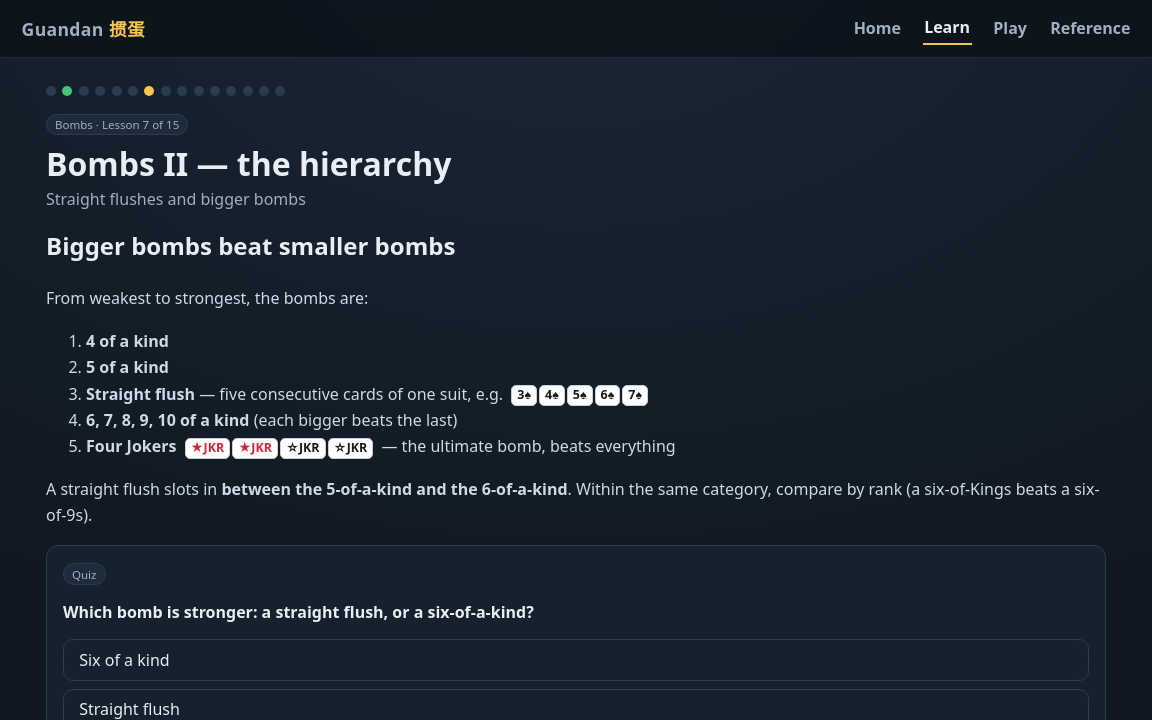
Test: UI smoke › scores a quiz drill
Click the button "Six of a kind" at (124, 660), box [63,639,1089,681]
(page scrolled)
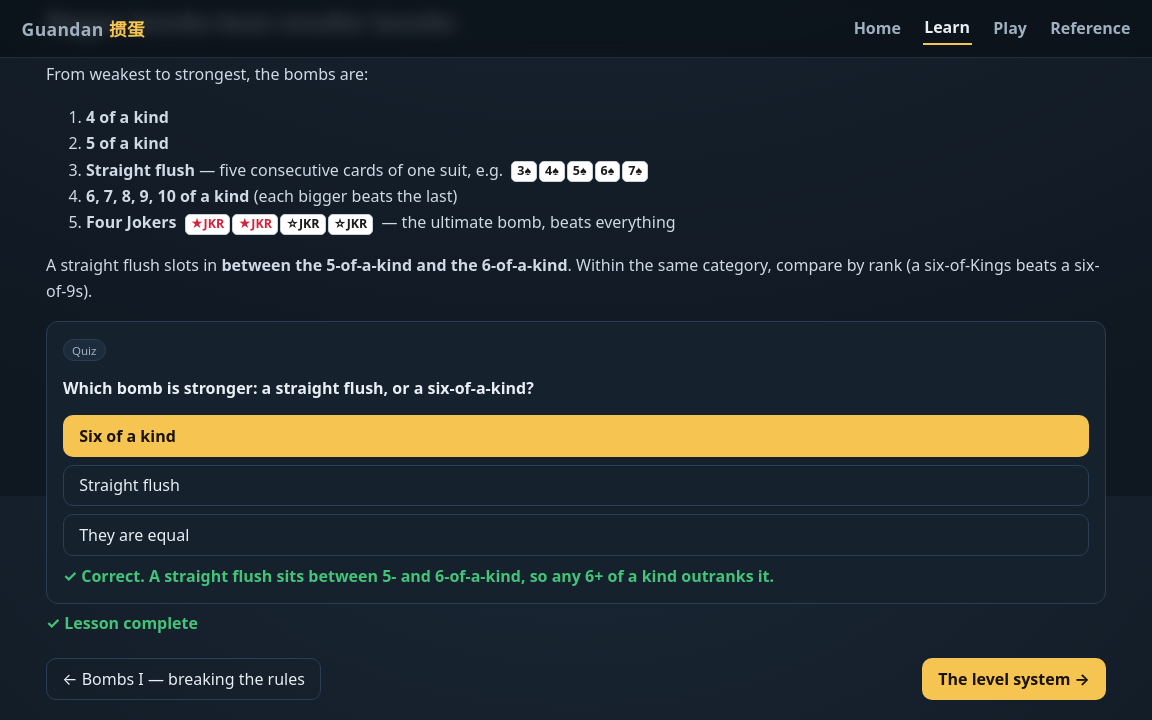
Check: the text "Correct" is shown, box [63,565,149,587]
